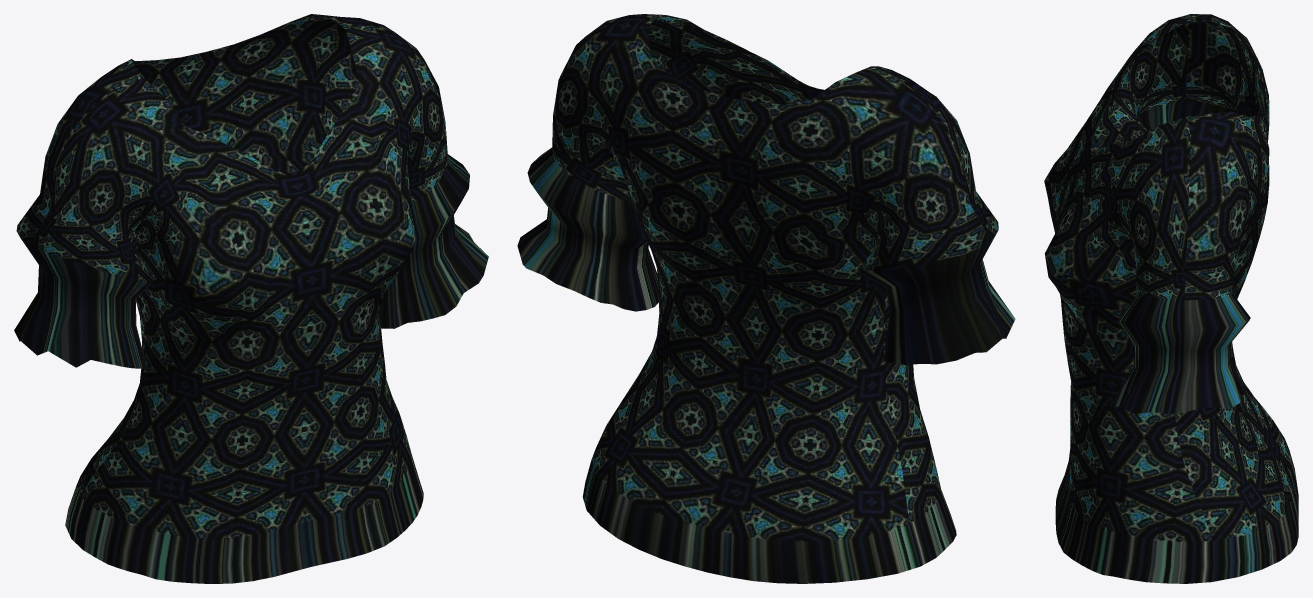
File: elvs-ruffle-sleeve-peasant-blouse-1.glb
3 views of the same model, side by side, from view 1: azimuth 30°, elevation 25°; view 2: azimuth 150°, elevation 25°; view 3: azimuth 270°, elevation 25° (orthographic). The views are drawn at different scales.
Parts seen in each view (by area): view 1: Human.elvs_ruffle_sleeve_peasant_blouse_1; view 2: Human.elvs_ruffle_sleeve_peasant_blouse_1; view 3: Human.elvs_ruffle_sleeve_peasant_blouse_1.
Part boxes in pixels (x1,y1,x2,y2): Human.elvs_ruffle_sleeve_peasant_blouse_1: (14,14,488,583); Human.elvs_ruffle_sleeve_peasant_blouse_1: (517,14,1015,583); Human.elvs_ruffle_sleeve_peasant_blouse_1: (1044,14,1298,583).
Size of the model in its own units: 0.5218 by 0.5125 by 0.2619.
1 material, 1 textured.
